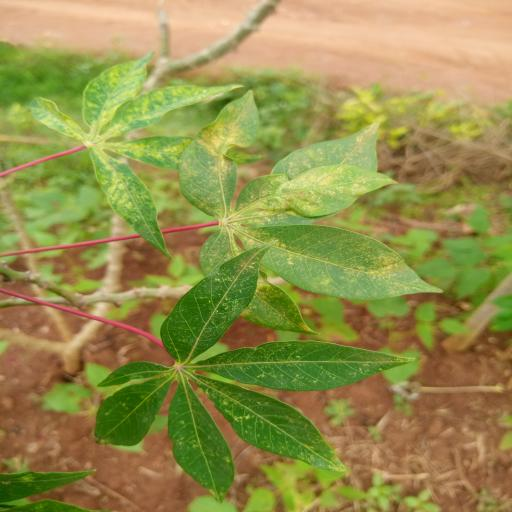Cassava_Mosaic: (91, 246, 417, 506), (20, 52, 288, 256), (184, 121, 437, 321)
